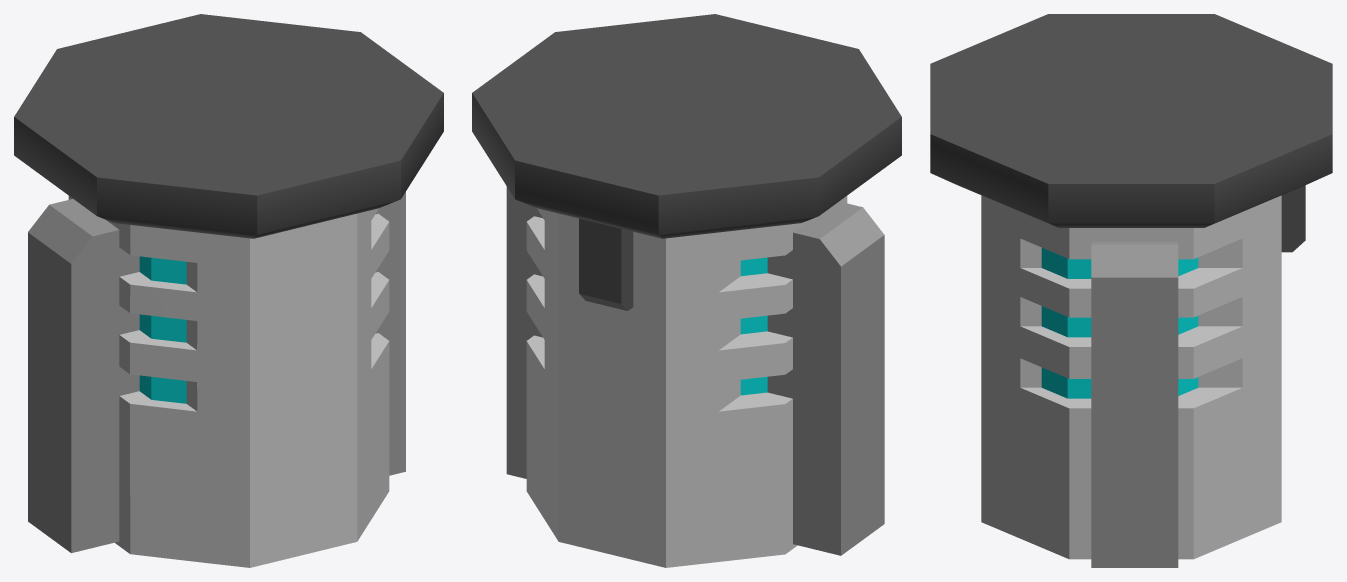
Rendered from SM_Platform_2.fbx.
3 views of the same model, side by side, from view 1: azimuth 30°, elevation 25°; view 2: azimuth 150°, elevation 25°; view 3: azimuth 270°, elevation 25° (orthographic).
Visible parts, largest first — view 1: SM_Platform_B; view 2: SM_Platform_B; view 3: SM_Platform_B.
Boxes of the visible parts, left/top/right/bottom form: SM_Platform_B: left=14, top=14, right=443, bottom=567; SM_Platform_B: left=472, top=14, right=901, bottom=567; SM_Platform_B: left=930, top=14, right=1332, bottom=567.
Bounding box in the file's own units: 144 × 155 × 142.
